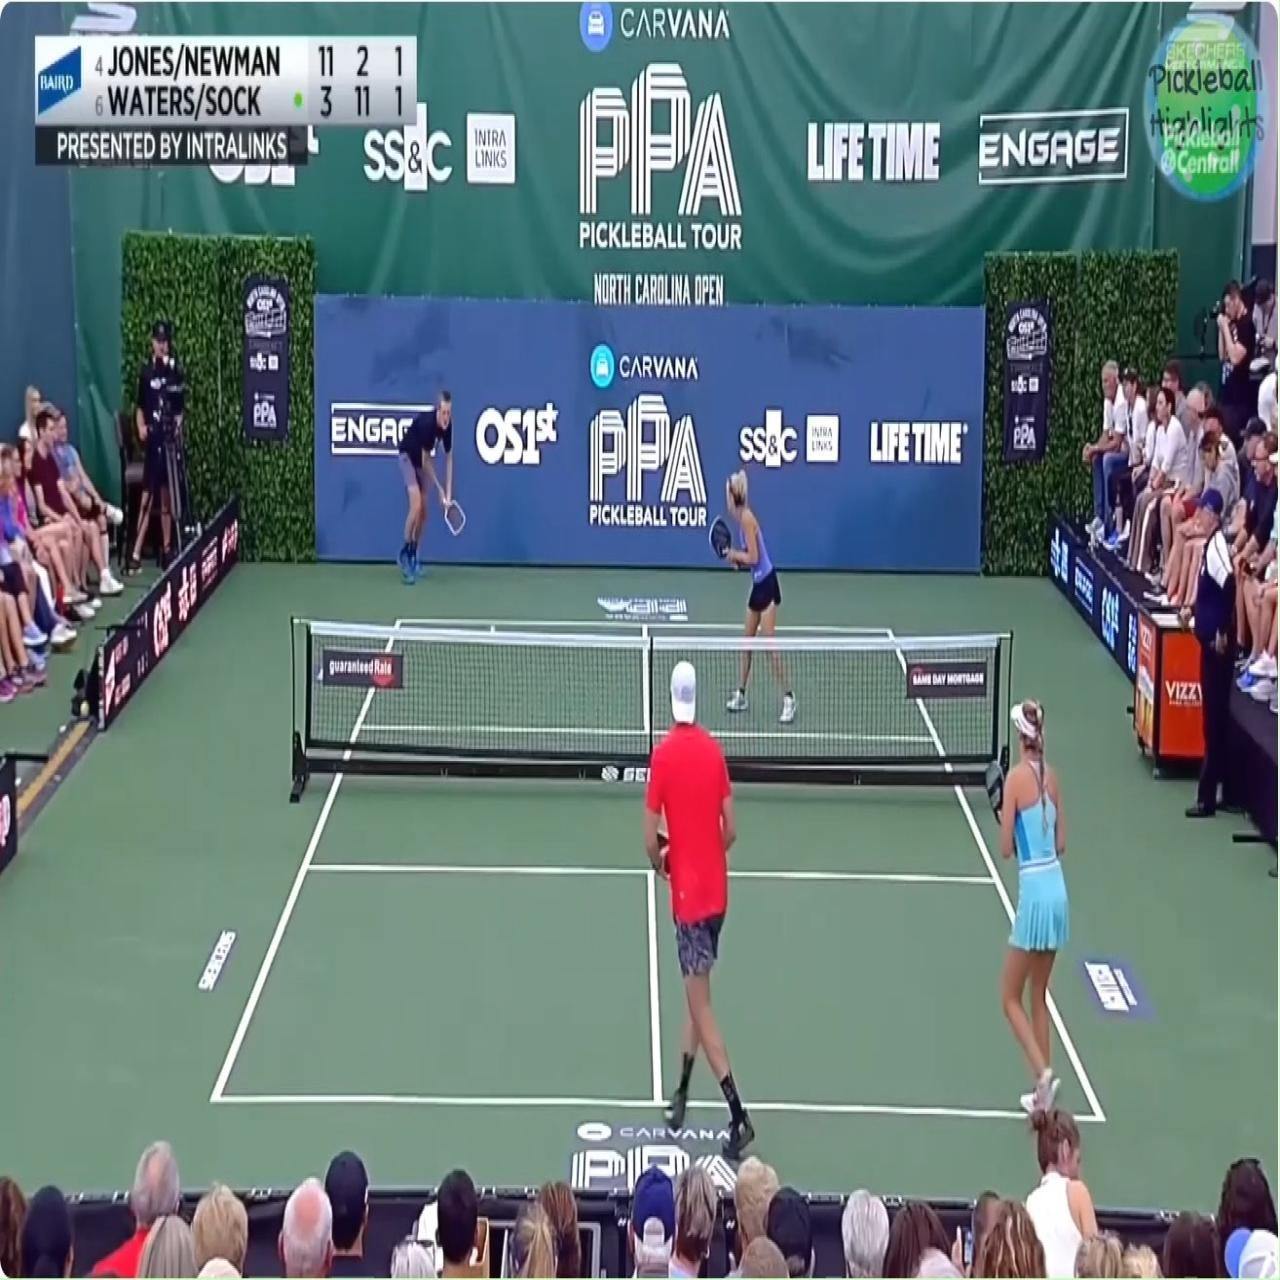pickleball: (490, 624, 496, 633)
